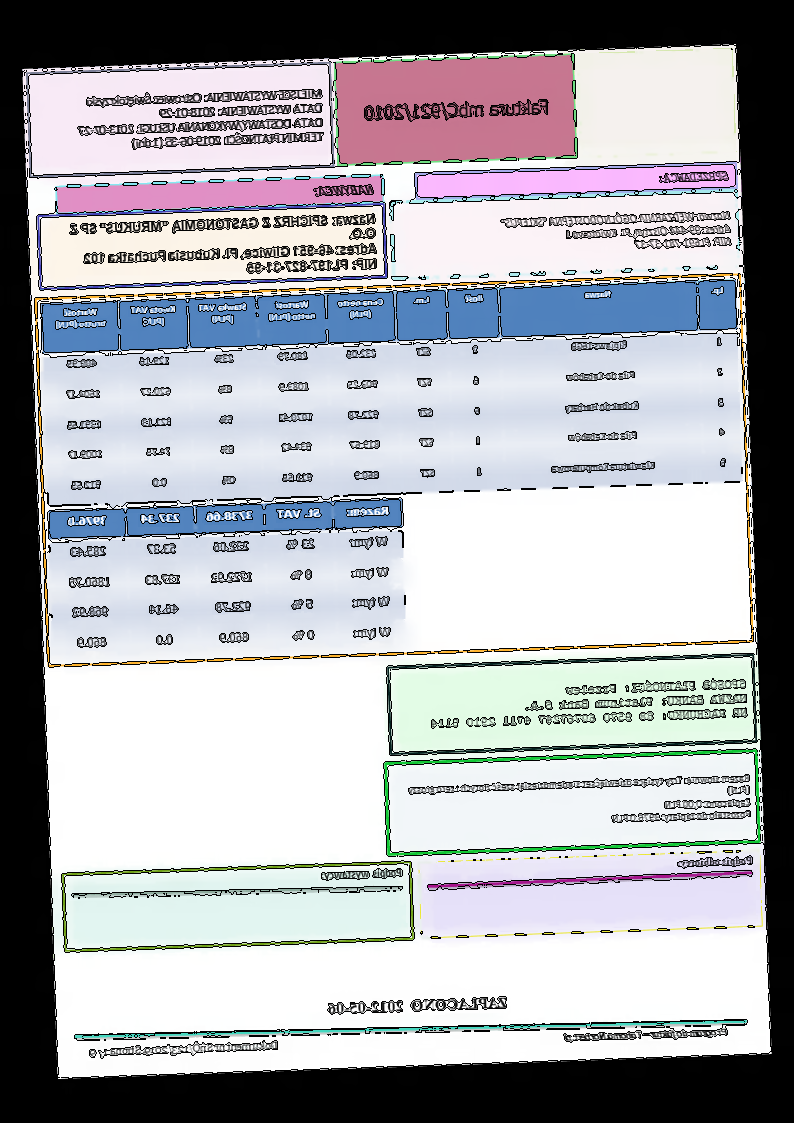Table: (39, 277, 746, 509), (45, 498, 408, 662)
TextBox: (65, 208, 382, 285), (405, 770, 755, 834), (427, 673, 750, 735), (74, 84, 328, 155), (496, 204, 735, 259), (361, 89, 559, 128), (86, 1036, 283, 1064), (322, 993, 511, 1020), (558, 1020, 732, 1045), (317, 864, 406, 885), (675, 850, 756, 873), (313, 177, 378, 202), (659, 166, 734, 186)
